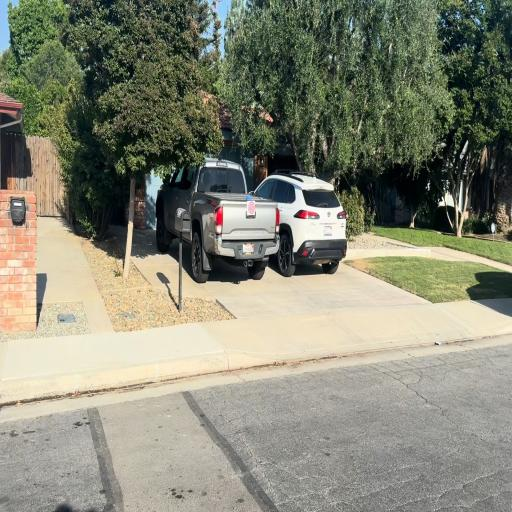bullseye: (248, 201, 255, 215)
